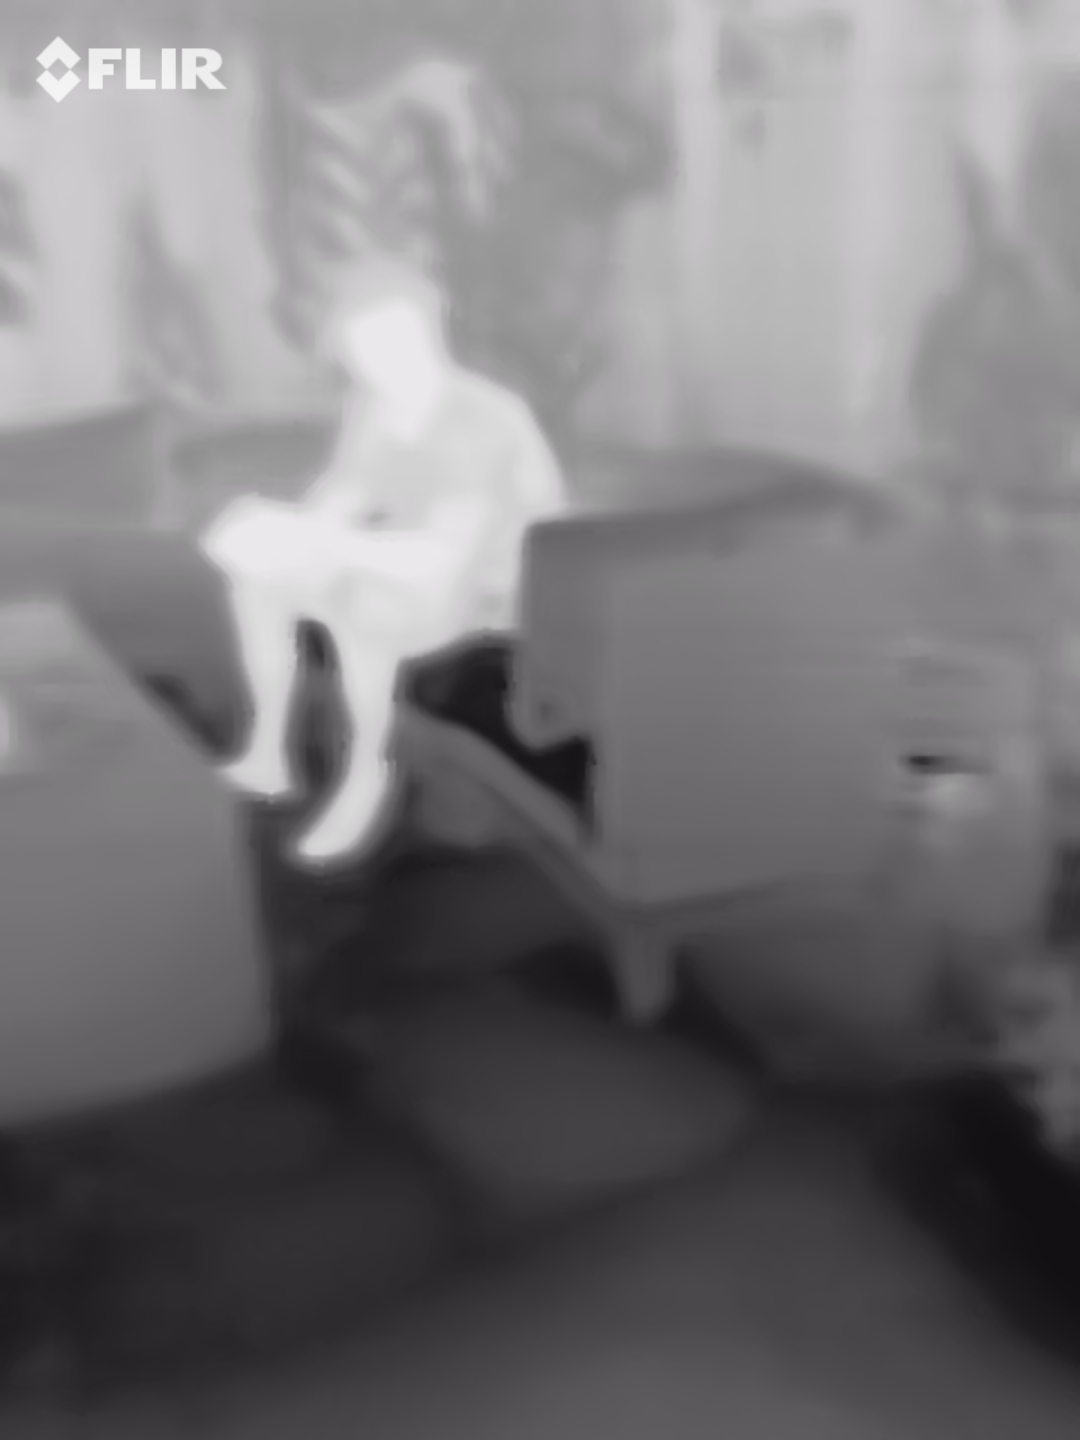head: (316, 257, 454, 401)
